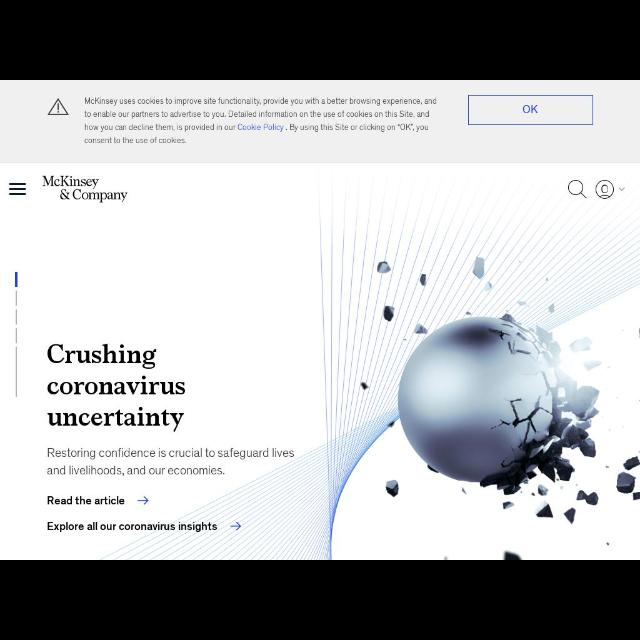backgroundimage: (2, 165, 638, 559)
icon: (8, 180, 28, 198), (568, 180, 588, 198), (48, 98, 68, 116), (598, 180, 614, 198), (136, 494, 152, 510), (230, 522, 244, 530), (619, 182, 625, 194)
image: (41, 176, 131, 207)
pageindicator: (12, 272, 20, 396)
spinner: (596, 178, 626, 202)
text: (84, 98, 440, 146), (47, 341, 185, 433), (47, 446, 295, 474), (48, 522, 218, 532), (47, 497, 125, 508)
textbutton: (467, 94, 593, 124)
